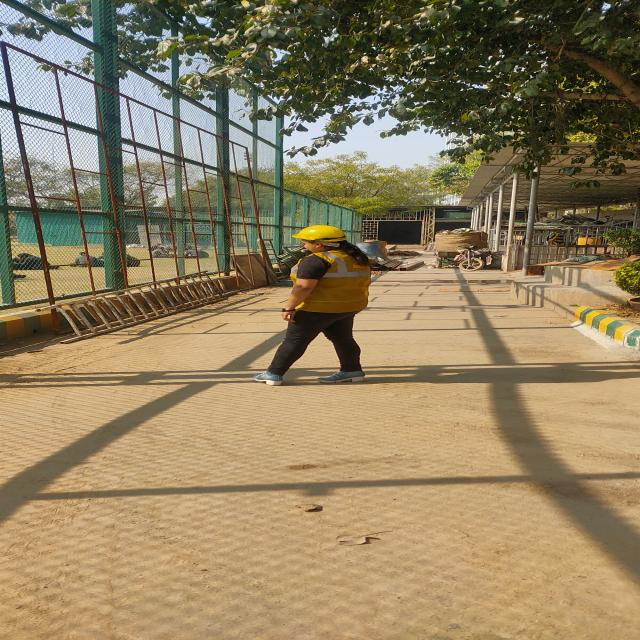safe: (283, 225, 368, 383)
